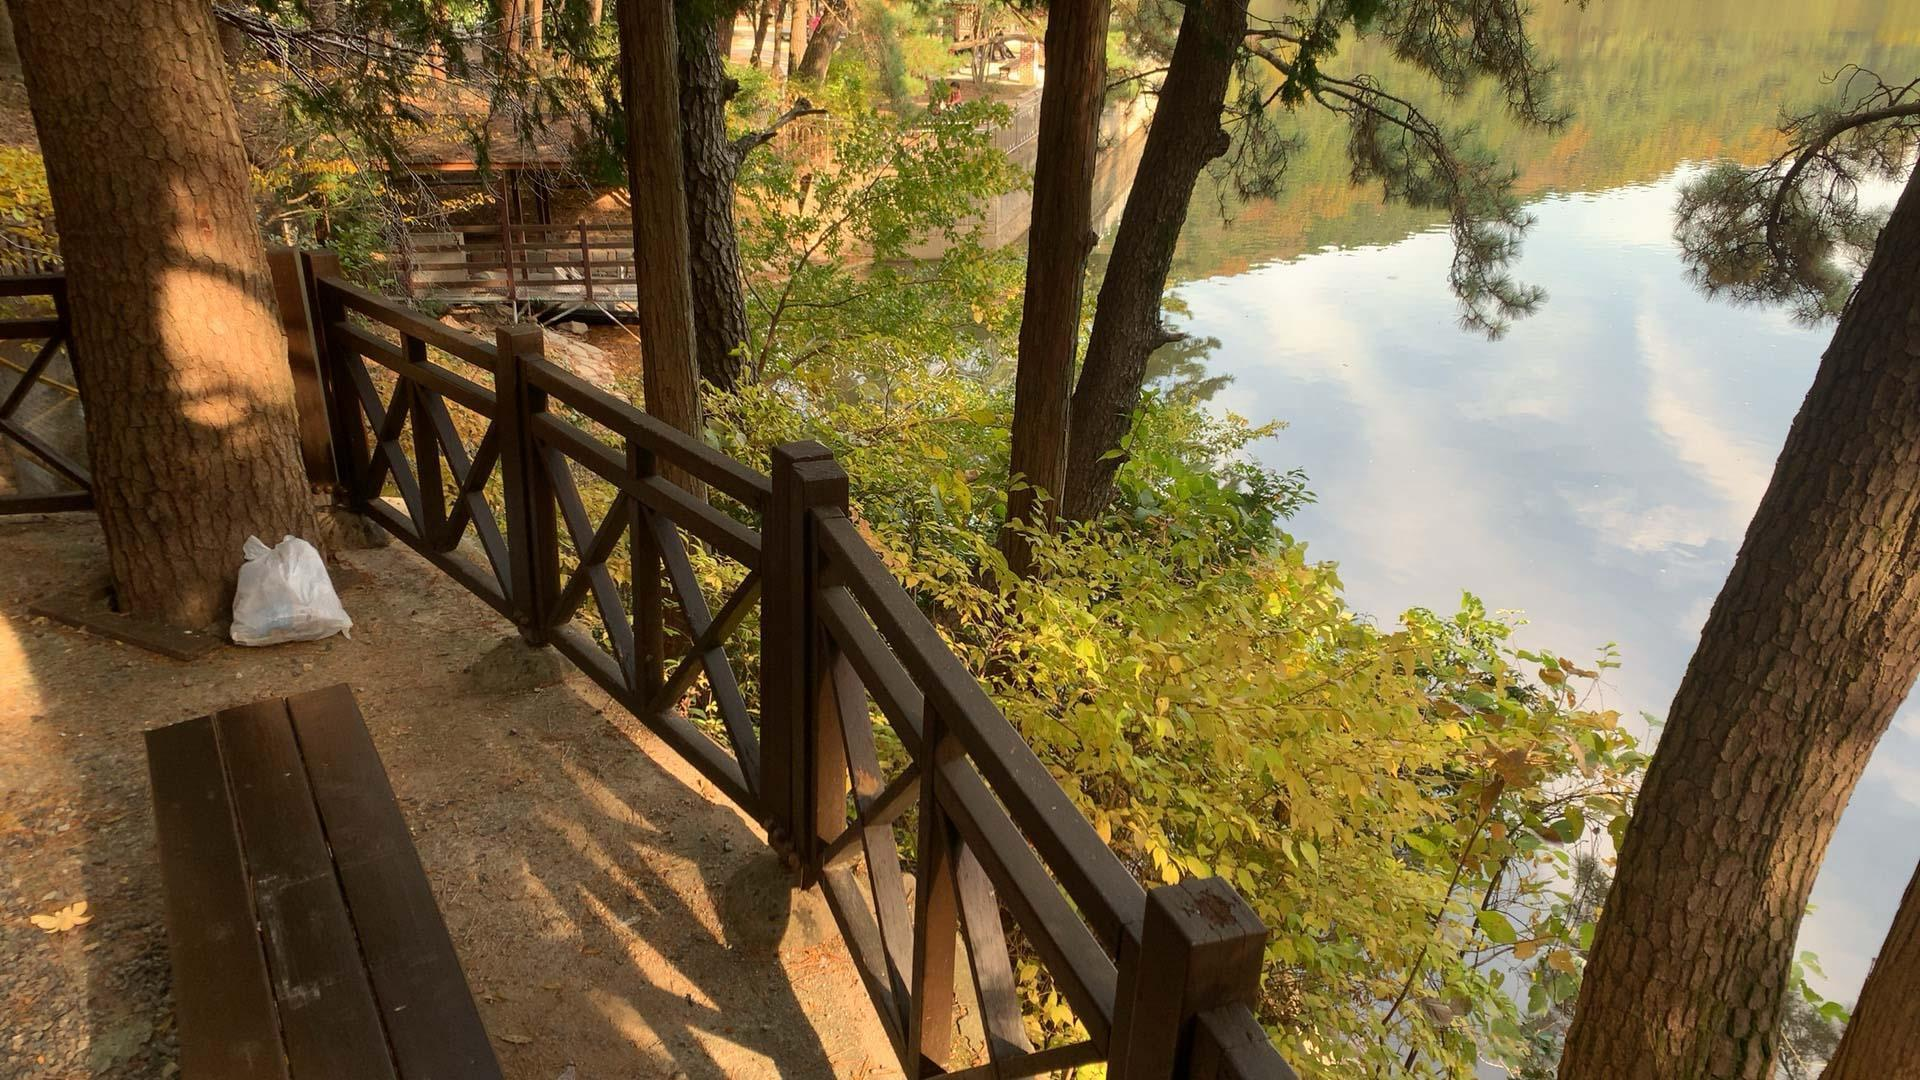white_bag: (216, 522, 365, 654)
